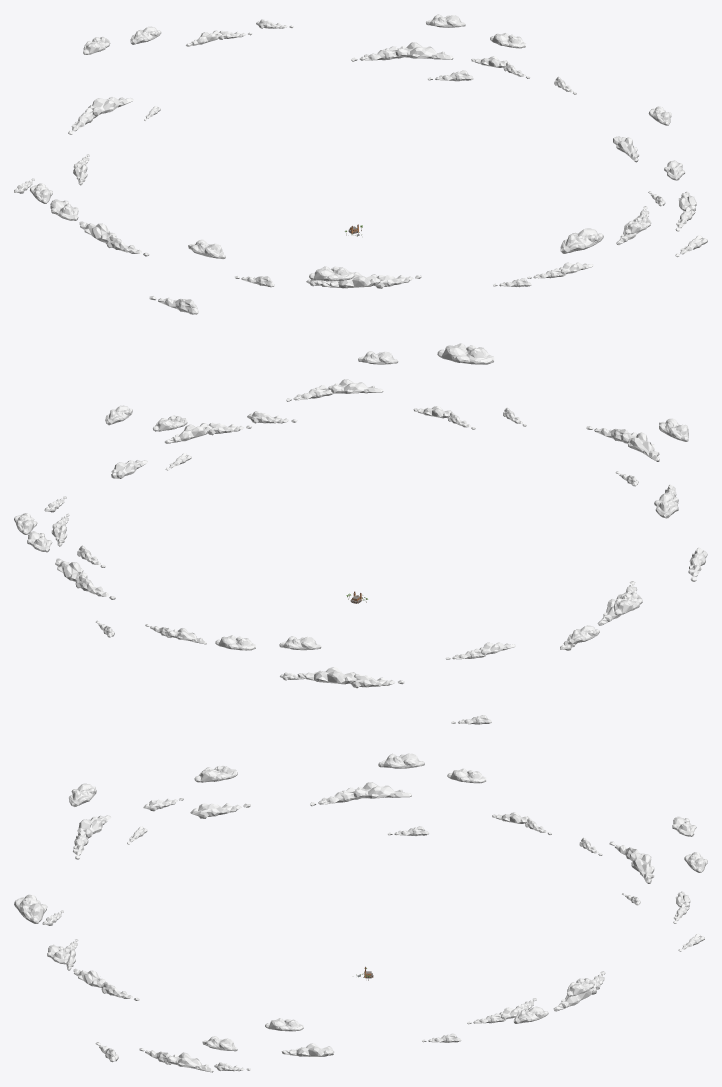
File: fountain3.glb
3 renders of one model, top to bottom at view 1: azimuth 30°, elevation 25°; view 2: azimuth 150°, elevation 25°; view 3: azimuth 270°, elevation 25°, orthographic. The views are drawn at different scales.
Visible parts, largest first — view 1: SM_Env_Cloud_13, SM_Env_Cloud_34, SM_Env_Cloud_14, SM_Env_Cloud_16, SM_Env_Cloud_29; view 2: SM_Env_Cloud_13, SM_Env_Cloud_29; view 3: SM_Env_Cloud_21, SM_Env_Cloud_13, SM_Env_Cloud_24, SM_Env_Cloud_19, SM_Env_Cloud_20, SM_Env_Cloud_29.
Boxes of the visible parts, x1,y1,x2,y2 form: SM_Env_Cloud_13: (560,228,603,253); SM_Env_Cloud_34: (395,42,453,59); SM_Env_Cloud_14: (321,272,380,288); SM_Env_Cloud_16: (309,266,354,281); SM_Env_Cloud_29: (88,97,133,116); SM_Env_Cloud_13: (437,343,494,364); SM_Env_Cloud_29: (297,667,356,684); SM_Env_Cloud_21: (353,782,411,798); SM_Env_Cloud_13: (14,894,47,923); SM_Env_Cloud_24: (378,753,424,768); SM_Env_Cloud_19: (190,803,250,818); SM_Env_Cloud_20: (194,765,237,782); SM_Env_Cloud_29: (629,852,654,883).
Size of what is drawn, in the model's own units: 832 by 152 by 876.
12 materials, 6 textured.
